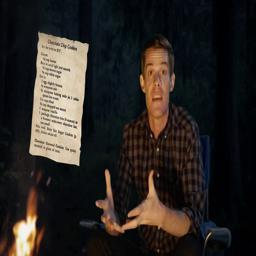fire: (9, 188, 44, 256)
